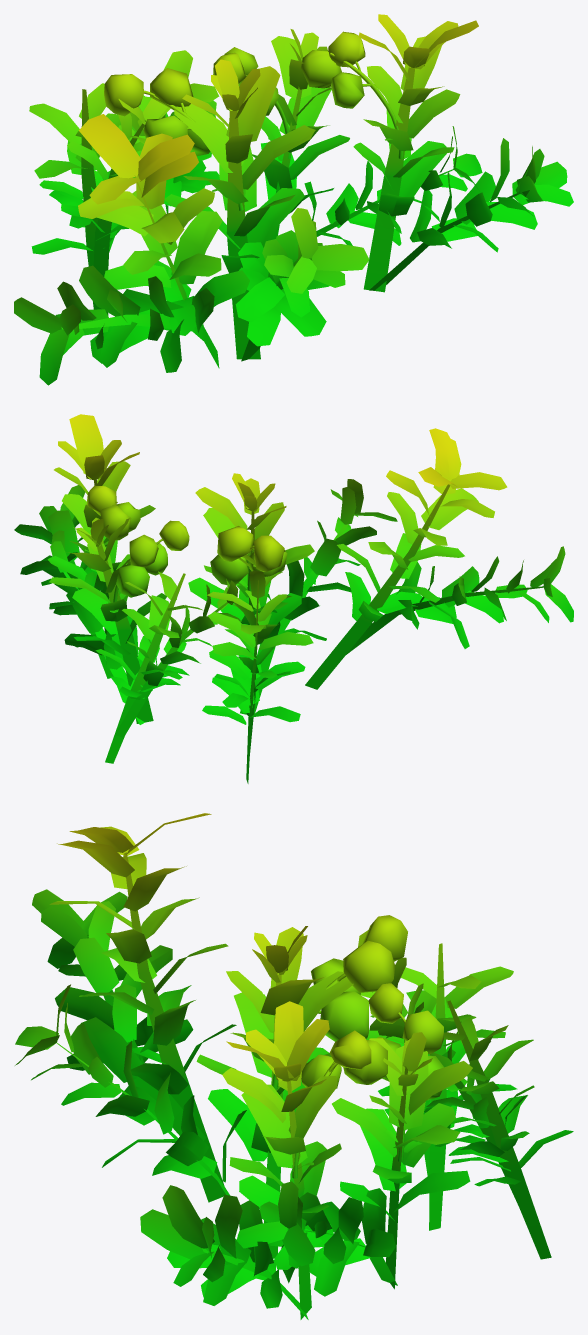
Rendered from Lingonberry_LOD2_Var7.fbx.
3 views of the same model, one above another, from view 1: azimuth 30°, elevation 25°; view 2: azimuth 150°, elevation 25°; view 3: azimuth 270°, elevation 25° (orthographic). The views are drawn at different scales.
Visible parts, largest first — view 1: _7rum_Var7_LOD2; view 2: _7rum_Var7_LOD2; view 3: _7rum_Var7_LOD2.
Boxes of the visible parts, left/top/right/bottom form: _7rum_Var7_LOD2: left=14, top=14, right=573, bottom=385; _7rum_Var7_LOD2: left=14, top=414, right=573, bottom=783; _7rum_Var7_LOD2: left=15, top=813, right=573, bottom=1319.
Size of the model in its own units: 27.78 by 14.43 by 19.96.
